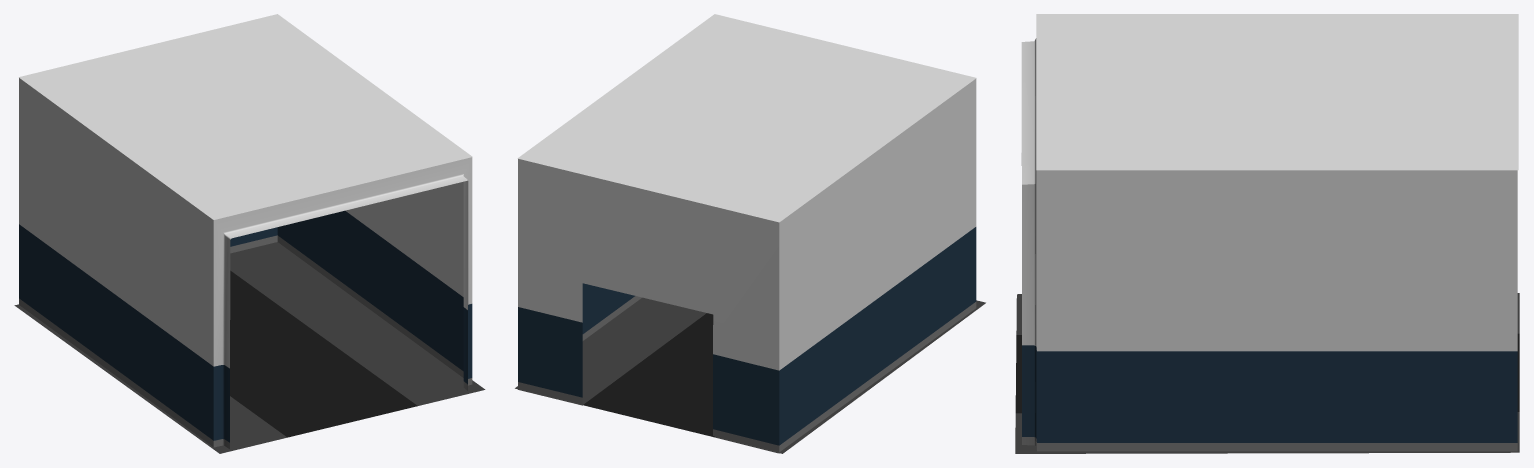
Rendered from SM_H_Building_Tide_Laundryroom_02_ATLAS.fbx.
3 views of the same model, side by side, from view 1: azimuth 30°, elevation 25°; view 2: azimuth 150°, elevation 25°; view 3: azimuth 270°, elevation 25° (orthographic). The views are drawn at different scales.
Parts seen in each view (by area): view 1: SM_H_Building_Tide_Laundryroom_02_ATLAS; view 2: SM_H_Building_Tide_Laundryroom_02_ATLAS; view 3: SM_H_Building_Tide_Laundryroom_02_ATLAS.
Boxes of the visible parts, <box> form: SM_H_Building_Tide_Laundryroom_02_ATLAS: <box>14,14,485,453</box>; SM_H_Building_Tide_Laundryroom_02_ATLAS: <box>515,14,985,453</box>; SM_H_Building_Tide_Laundryroom_02_ATLAS: <box>1015,14,1519,453</box>.
Size of the model in its own units: 594 by 787 by 487.
